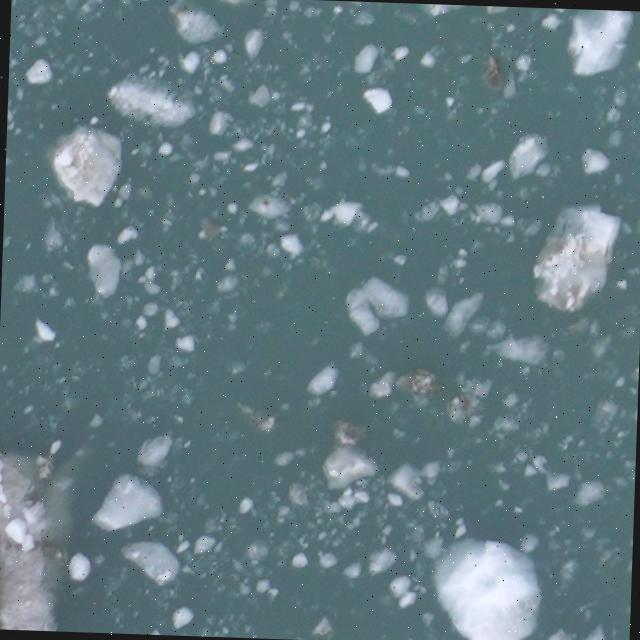seal: (0, 550, 5, 629)
